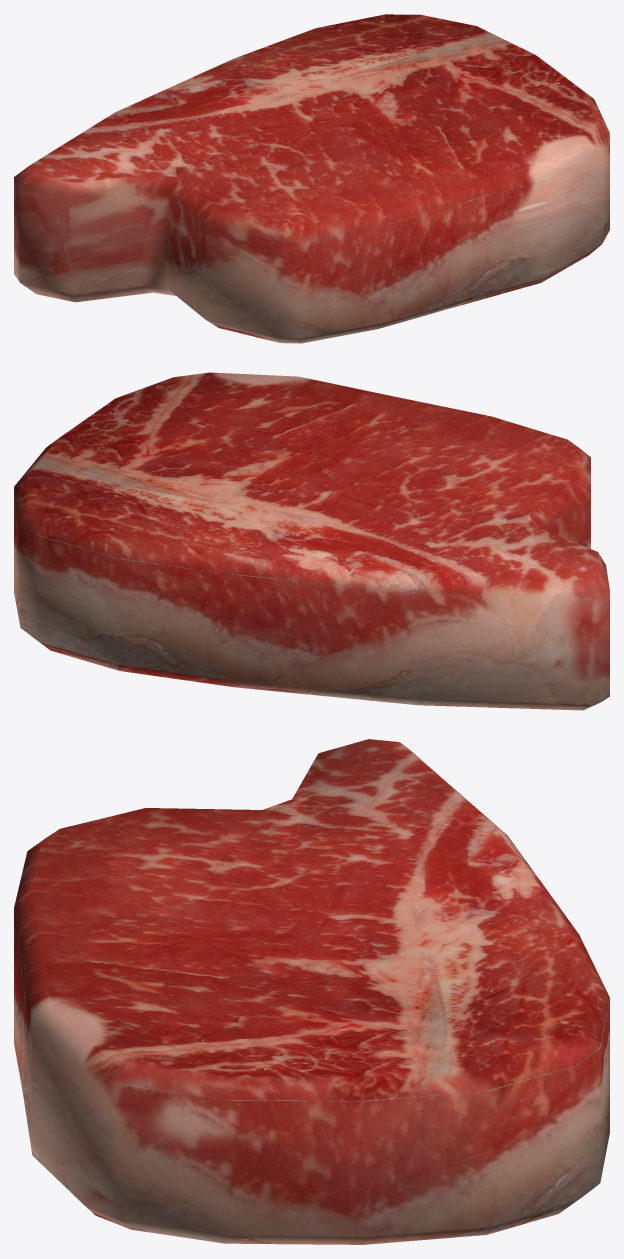
File: beef_tenderloin.glb
3 views of the same model, one above another, from view 1: azimuth 30°, elevation 25°; view 2: azimuth 150°, elevation 25°; view 3: azimuth 270°, elevation 25° (orthographic). The views are drawn at different scales.
Parts seen in each view (by area): view 1: Plane; view 2: Plane; view 3: Plane.
Part boxes in pixels (<box>): Plane: <box>14,14,609,343</box>; Plane: <box>14,372,609,710</box>; Plane: <box>14,739,609,1244</box>.
Size of the model in its own units: 3.6 by 0.7915 by 2.56.
Materials: 1 (1 with a texture image).
